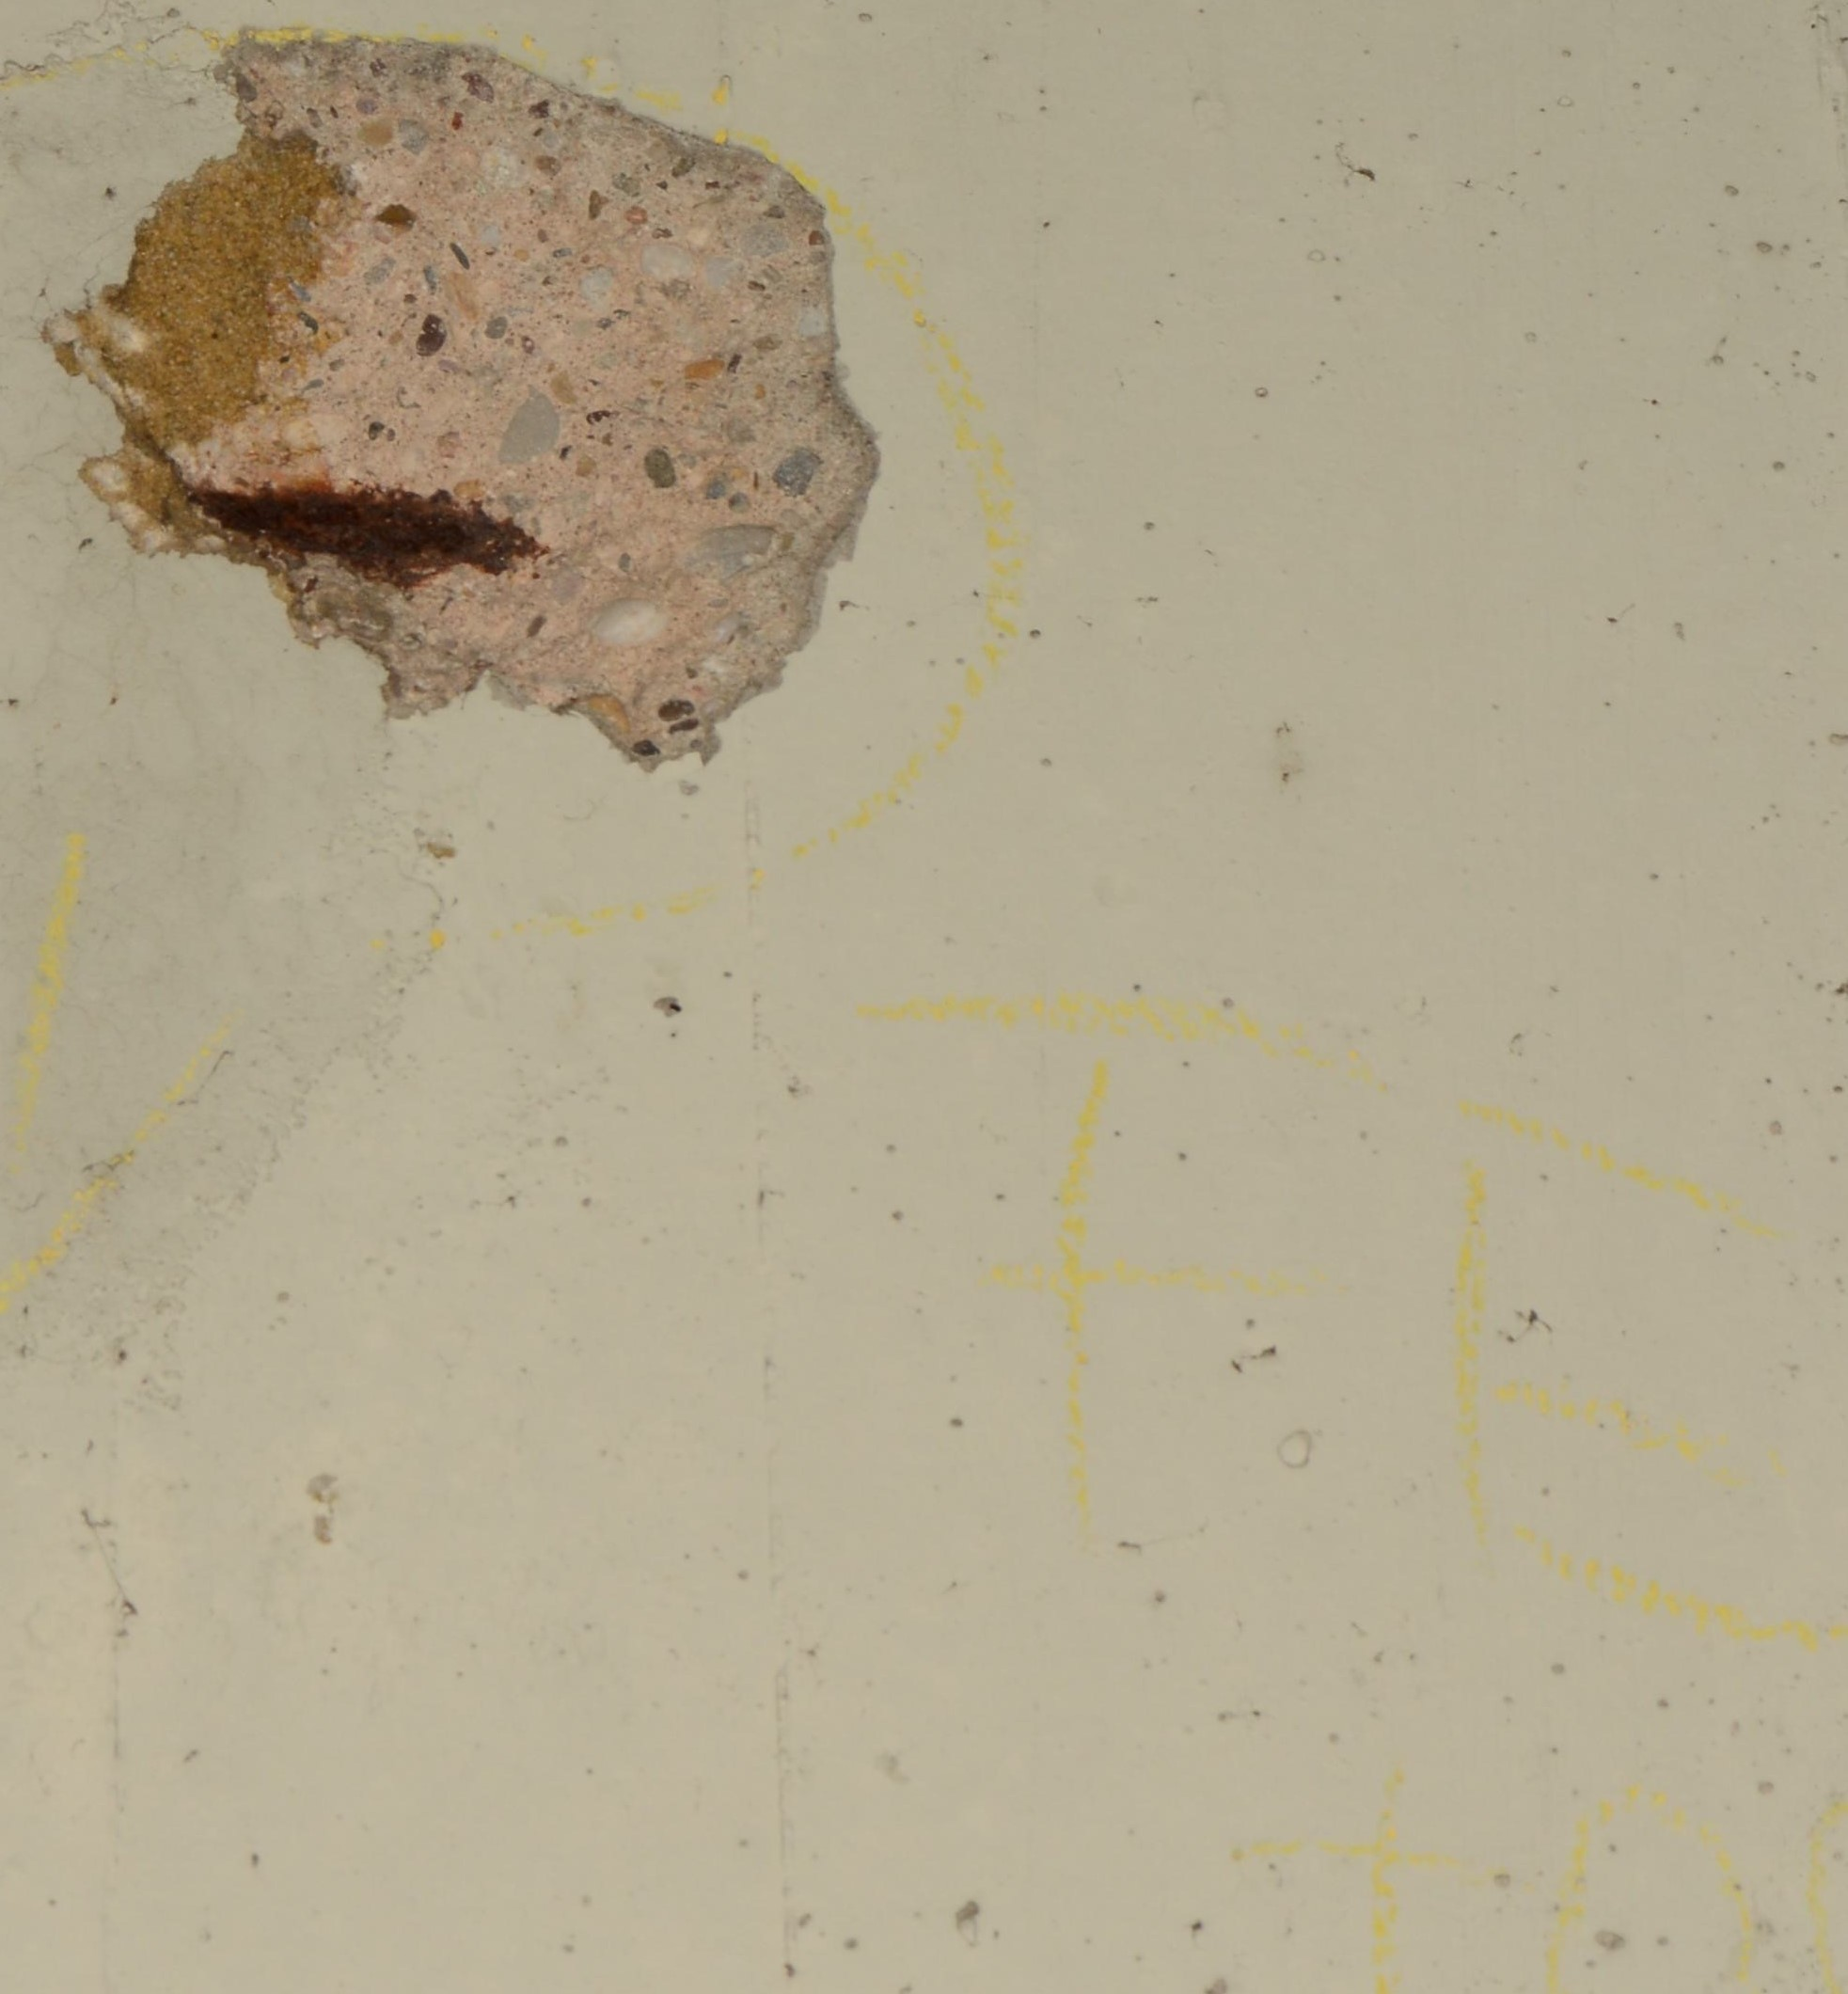Exposed reinforcement: (184, 492, 547, 591)
Spalling: (40, 26, 882, 778)
